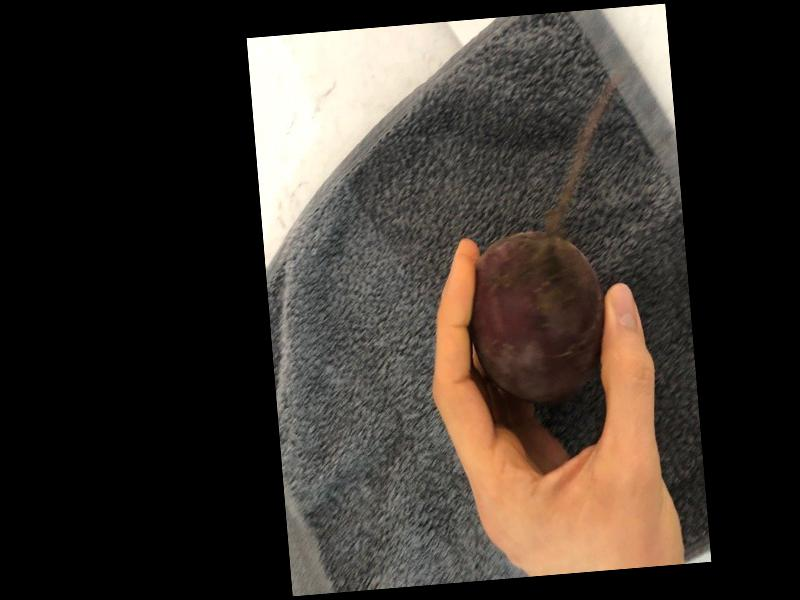Beet: (463, 227, 611, 409)
